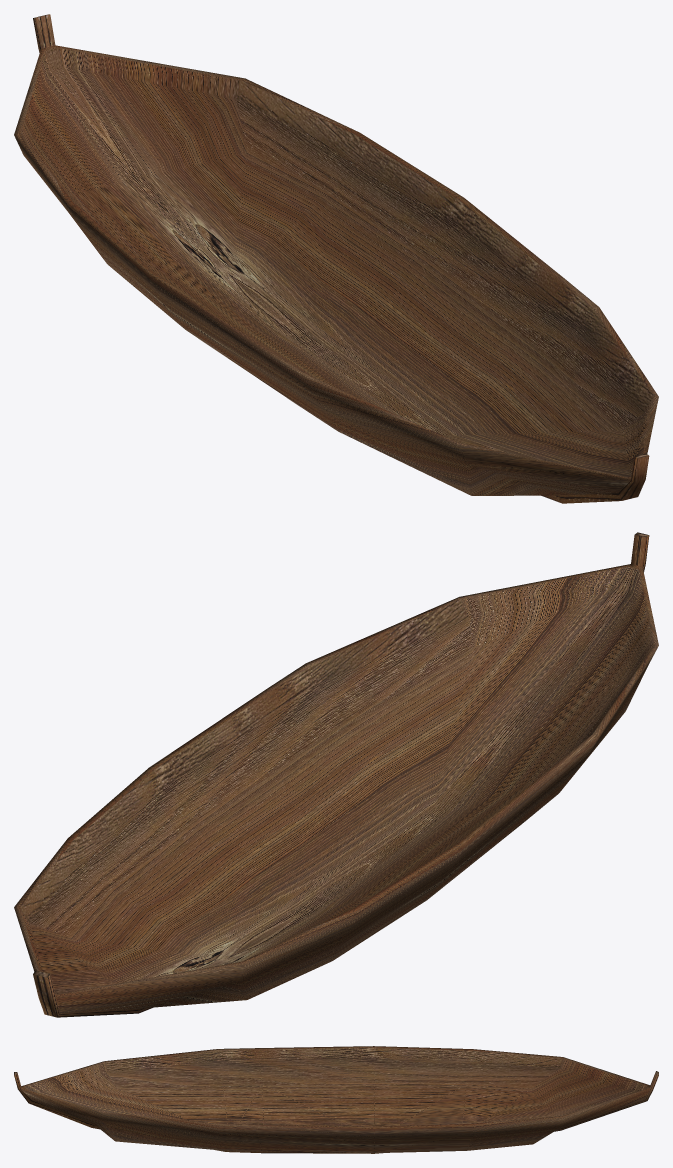
3 views of the same model, one above another, from view 1: azimuth 30°, elevation 25°; view 2: azimuth 150°, elevation 25°; view 3: azimuth 270°, elevation 25° (orthographic). The views are drawn at different scales.
Visible parts, largest first — view 1: 立方体; view 2: 立方体; view 3: 立方体.
Boxes of the visible parts, left/top/right/bottom form: 立方体: left=14, top=14, right=658, bottom=503; 立方体: left=14, top=532, right=658, bottom=1017; 立方体: left=14, top=1046, right=658, bottom=1153.
Size of the model in its own units: 188 by 84.3 by 625.
